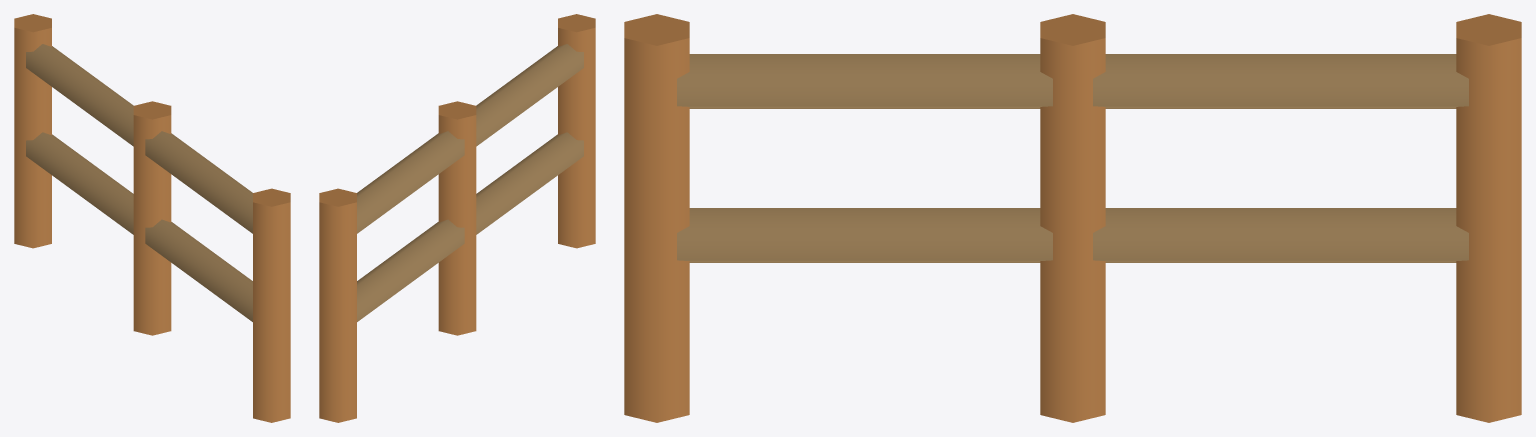
Rendered from prop_fence4_6786.glb.
The picture shows the model from 3 angles, left to right: view 1: azimuth 30°, elevation 25°; view 2: azimuth 150°, elevation 25°; view 3: azimuth 270°, elevation 25°; orthographic projection. The views are drawn at different scales.
Visible parts, largest first — view 1: prop_fence4_6786; view 2: prop_fence4_6786; view 3: prop_fence4_6786.
Boxes of the visible parts, x1,y1,x2,y2 form: prop_fence4_6786: (14, 14, 290, 422); prop_fence4_6786: (319, 14, 595, 422); prop_fence4_6786: (624, 14, 1521, 422).
Size of the model in its own units: 0.0884 by 0.4861 by 1.05.
Materials: 1 (1 with a texture image).
